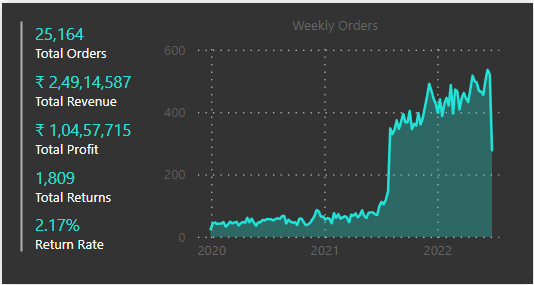

The page's visual inventory and layout, read from the dashboard file:
{"tool":"powerbi","page":{"name":"Category Tooltip","canvas":[425,225],"ordinal":4},"visuals":[{"type":"multiRowCard","fields":{"Values":["Measure Table.Total Orders","Measure Table.Total Revenue","Measure Table.Total Profit","Measure Table.Total Returns","Measure Table.Return Rate"]},"box":[10,10,160,205],"z":0},{"type":"areaChart","title":"Weekly Orders","fields":{"Category":["Calendar Lookup.Start of Week"],"Y":["Measure Table.Total Orders"]},"box":[124,10,285,205],"z":1000}]}

Visuals, with their boxes in screenshot pixels (x1, y1, x2, y2), scaled from the page's 425x225 canvas onto the 534x285 screenshot:
multiRowCard - Measure Table.Total Orders x Measure Table.Total Revenue: [13,13,214,272]
"Weekly Orders" areaChart: [156,13,514,272]
